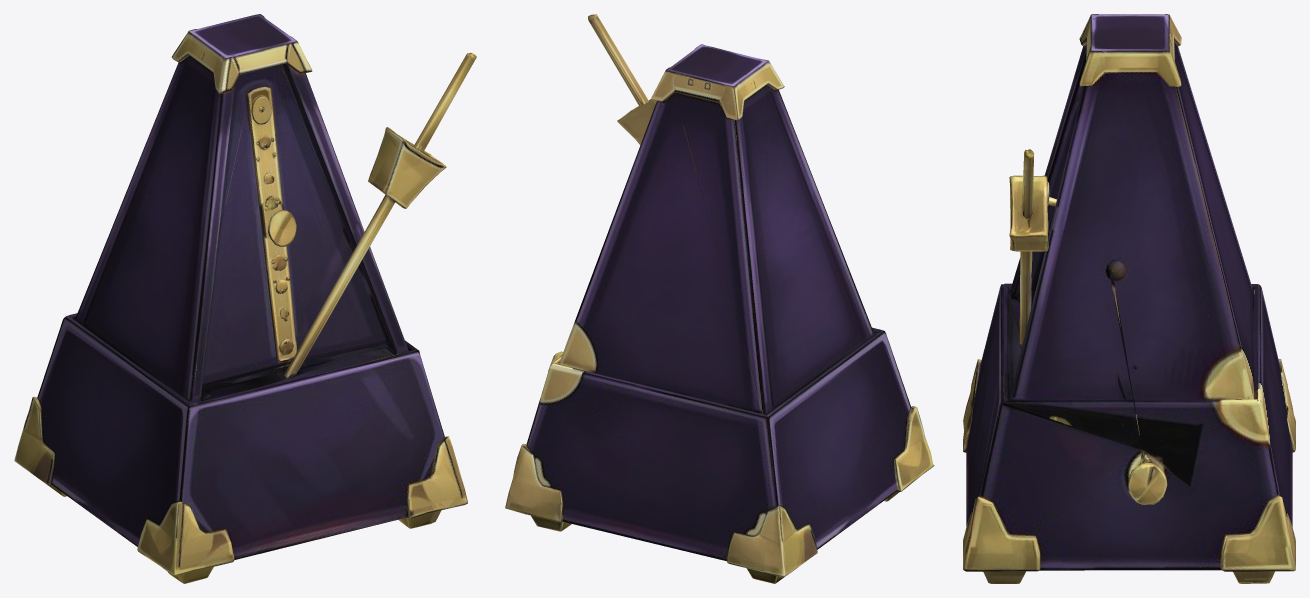
File: metronome.glb
The picture shows the model from 3 angles, left to right: view 1: azimuth 30°, elevation 25°; view 2: azimuth 150°, elevation 25°; view 3: azimuth 270°, elevation 25°; orthographic projection. The views are drawn at different scales.
Size of the model in its own units: 0.75 by 1 by 0.6172.
1 material, 1 textured.
